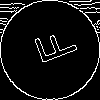F: (25, 25, 79, 70)
